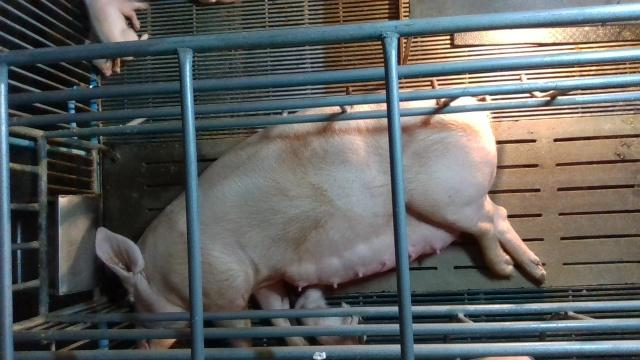piglet: (295, 285, 360, 345), (84, 0, 150, 58)
sow-sleep-lactate: (96, 87, 547, 349)
